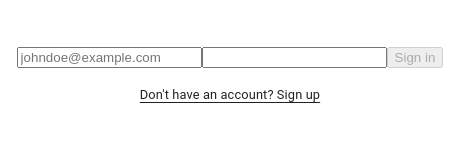
Test: AuthPage › shows error message on failed login (401)
The image size is (460, 160).
In the field with placeholder "johndoe@example.com": coordinates (109, 57) [17,46,202,68], type "wrong@example.com"
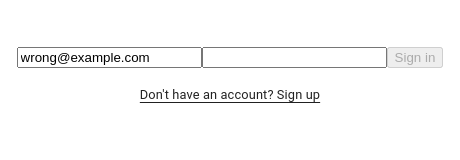
In the password field named "Password": coordinates (294, 57) [202,46,387,68], type "wrongpassword"
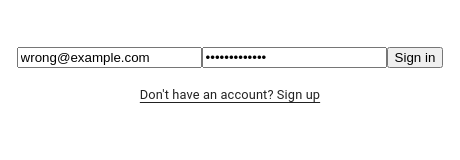
Click the button "Sign in": coordinates (415, 57) [387,46,443,68]
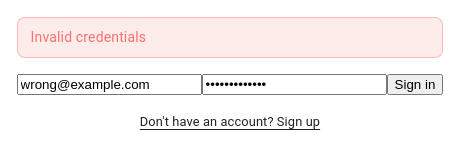
Result: the text "Invalid credentials" is shown at [17,17,443,58]
